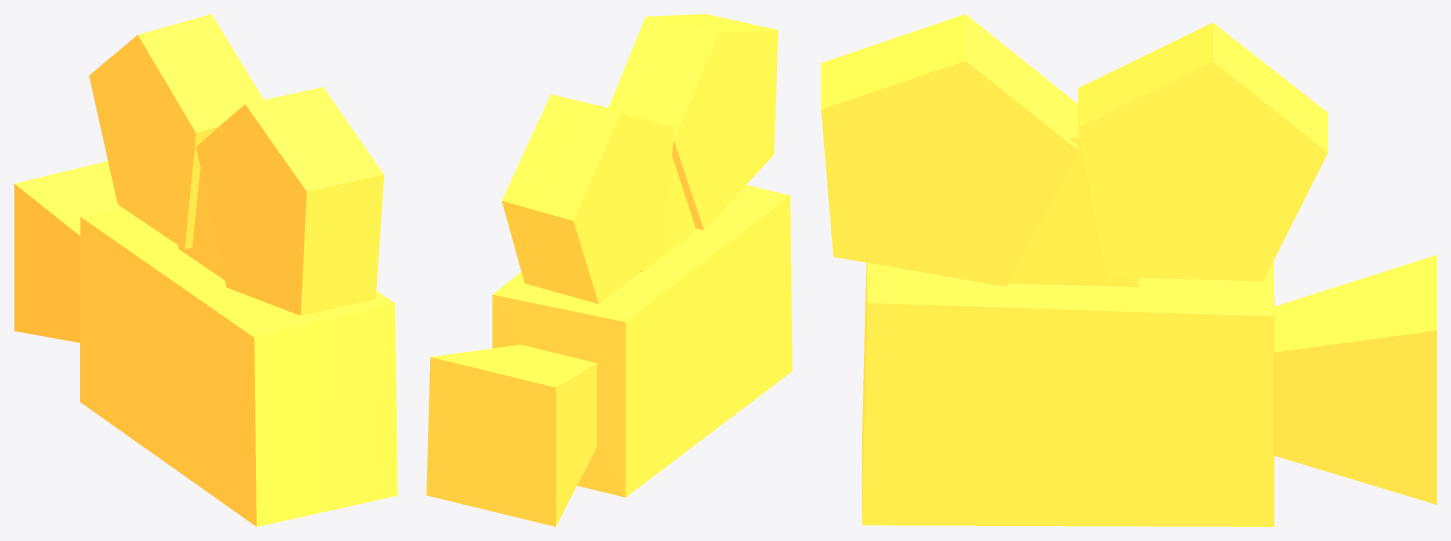
File: FilmCamera1_a1.glb
The picture shows the model from 3 angles, left to right: view 1: azimuth 30°, elevation 25°; view 2: azimuth 150°, elevation 25°; view 3: azimuth 270°, elevation 25°; orthographic projection. The views are drawn at different scales.
Parts seen in each view (by area): view 1: FilmCamera; view 2: FilmCamera; view 3: FilmCamera.
Part boxes in pixels (<box>): FilmCamera: <box>14,14,397,526</box>; FilmCamera: <box>426,14,792,526</box>; FilmCamera: <box>821,14,1436,526</box>.
Bounding box in the file's own units: 0.07 × 0.1837 × 0.2271.
